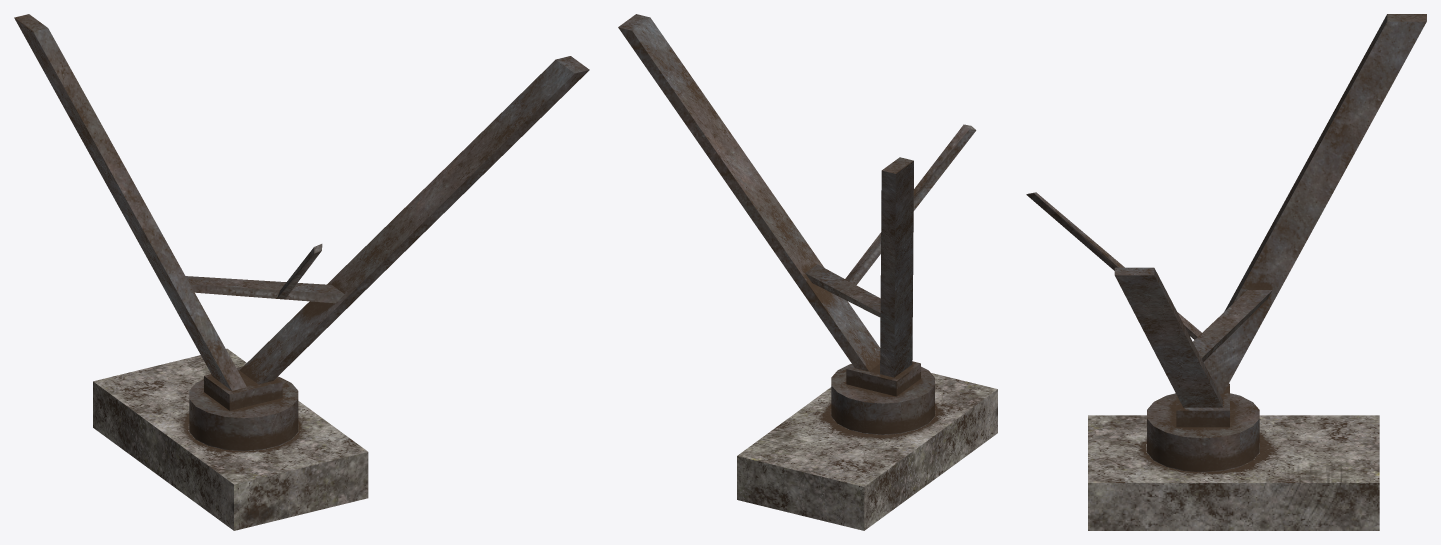
Rendered from ApoyoEdificio1.obj.
3 views of the same model, side by side, from view 1: azimuth 30°, elevation 25°; view 2: azimuth 150°, elevation 25°; view 3: azimuth 270°, elevation 25° (orthographic). The views are drawn at different scales.
Visible parts, largest first — view 1: Box131; view 2: Box131; view 3: Box131.
Part boxes in pixels (x1=…): Box131: x1=14, y1=14, x2=589, y2=530; Box131: x1=618, y1=14, x2=997, y2=530; Box131: x1=1026, y1=14, x2=1426, y2=530.
Size of the model in its own units: 74.07 by 67.81 by 58.52.
Materials: 1 (1 with a texture image).
